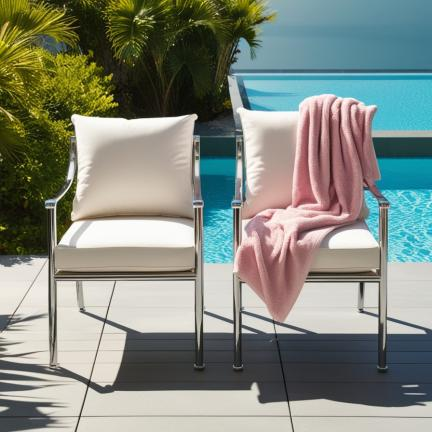empty chair: (45, 115, 204, 369)
occupied chair: (233, 94, 389, 371)
